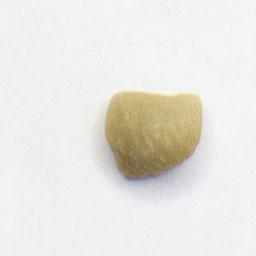defect: (101, 88, 205, 183)
